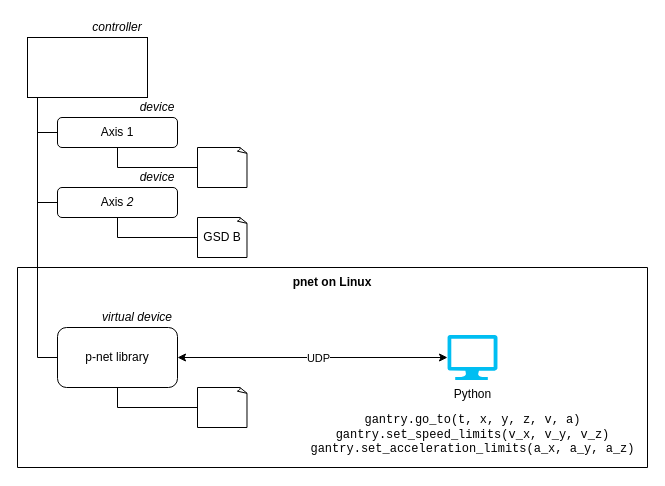
Some shapes in this 665 by 486 pixel diagram are drawn without their labels. The shapes that lost their labels are listed below. From the top down, each one's centre as x and y in pixels, then its label:
At pixel 87 67: "PLC".
At pixel 222 167: "GSD A".
At pixel 222 407: "GSD C".
